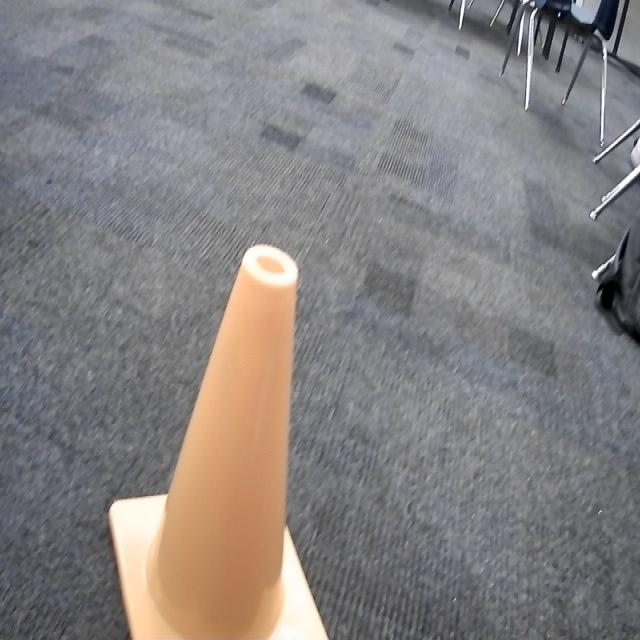cone: (107, 243, 332, 640)
